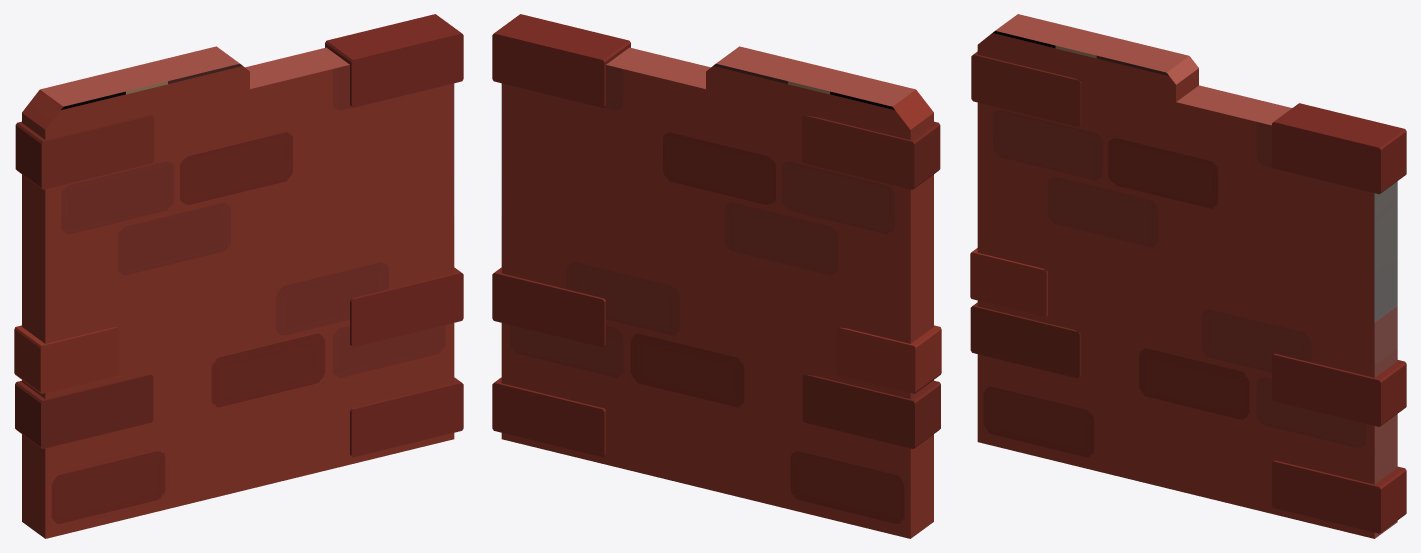
File: SM_BrickWall_02.fbx
The picture shows the model from 3 angles, left to right: view 1: azimuth 30°, elevation 25°; view 2: azimuth 150°, elevation 25°; view 3: azimuth 330°, elevation 25°; orthographic projection. The views are drawn at different scales.
Parts seen in each view (by area): view 1: SM_BrickWall_02; view 2: SM_BrickWall_02; view 3: SM_BrickWall_02.
Boxes of the visible parts, bbox=[...] form: SM_BrickWall_02: bbox=[14, 14, 463, 538]; SM_BrickWall_02: bbox=[492, 14, 941, 538]; SM_BrickWall_02: bbox=[970, 14, 1406, 538].
Bounding box in the file's own units: 1.03 × 1 × 0.1126.
